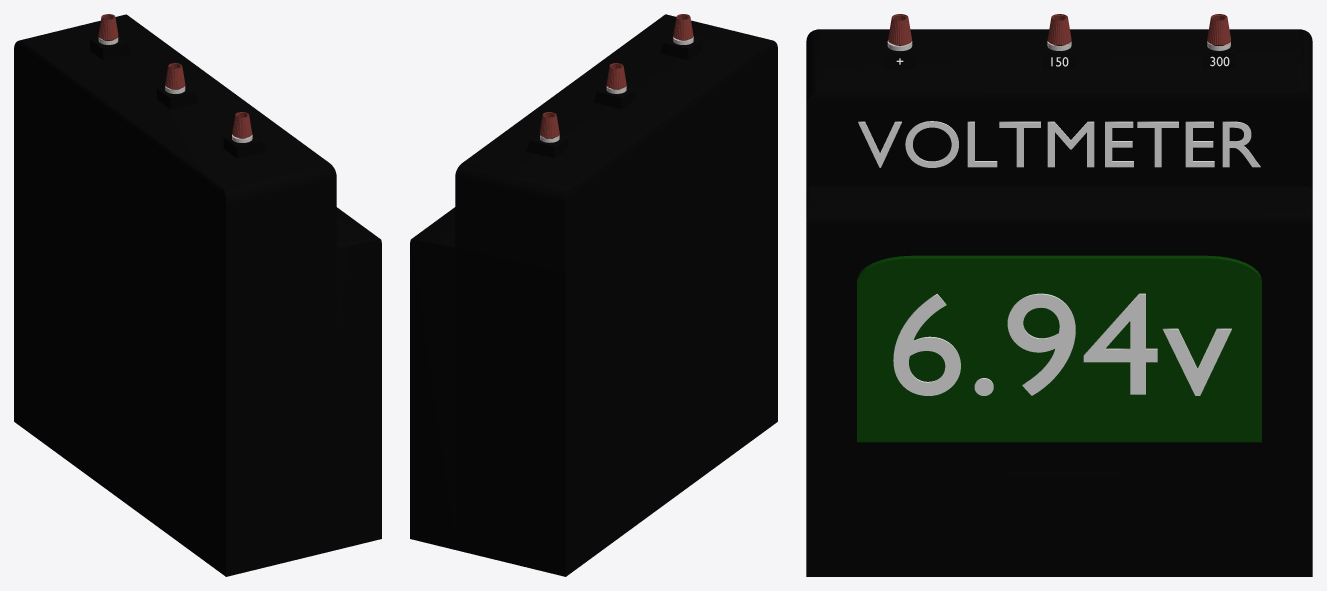
The model's file is Voltmeter.fbx.
The picture shows the model from 3 angles, left to right: view 1: azimuth 30°, elevation 25°; view 2: azimuth 150°, elevation 25°; view 3: azimuth 270°, elevation 25°; orthographic projection. The views are drawn at different scales.
Parts seen in each view (by area): view 1: Box, 10 Cap, Com Cap, 5 Cap; view 2: Box, 10 Cap, 5 Cap, Com Cap; view 3: Box, Text.004, Text.003, 10 Cap, Com Cap, 5 Cap, Cylinder.003, Cylinder.001, Cylinder.
Part boxes in pixels (x1,y1,x2,y2): Box: [14, 14, 381, 576]; 10 Cap: [156, 85, 198, 109]; Com Cap: [223, 134, 265, 157]; 5 Cap: [90, 36, 131, 60]; Box: [410, 14, 777, 576]; 10 Cap: [593, 85, 635, 108]; 5 Cap: [526, 134, 568, 157]; Com Cap: [660, 36, 701, 60]; Box: [806, 29, 1312, 576]; Text.004: [893, 293, 1231, 395]; Text.003: [858, 121, 1260, 167]; 10 Cap: [1042, 39, 1076, 69]; Com Cap: [883, 39, 916, 69]; 5 Cap: [1202, 39, 1235, 69]; Cylinder.003: [1047, 14, 1071, 45]; Cylinder.001: [1207, 14, 1231, 45]; Cylinder: [888, 14, 911, 45].
Size of the model in its own units: 88.09 by 218 by 200.
